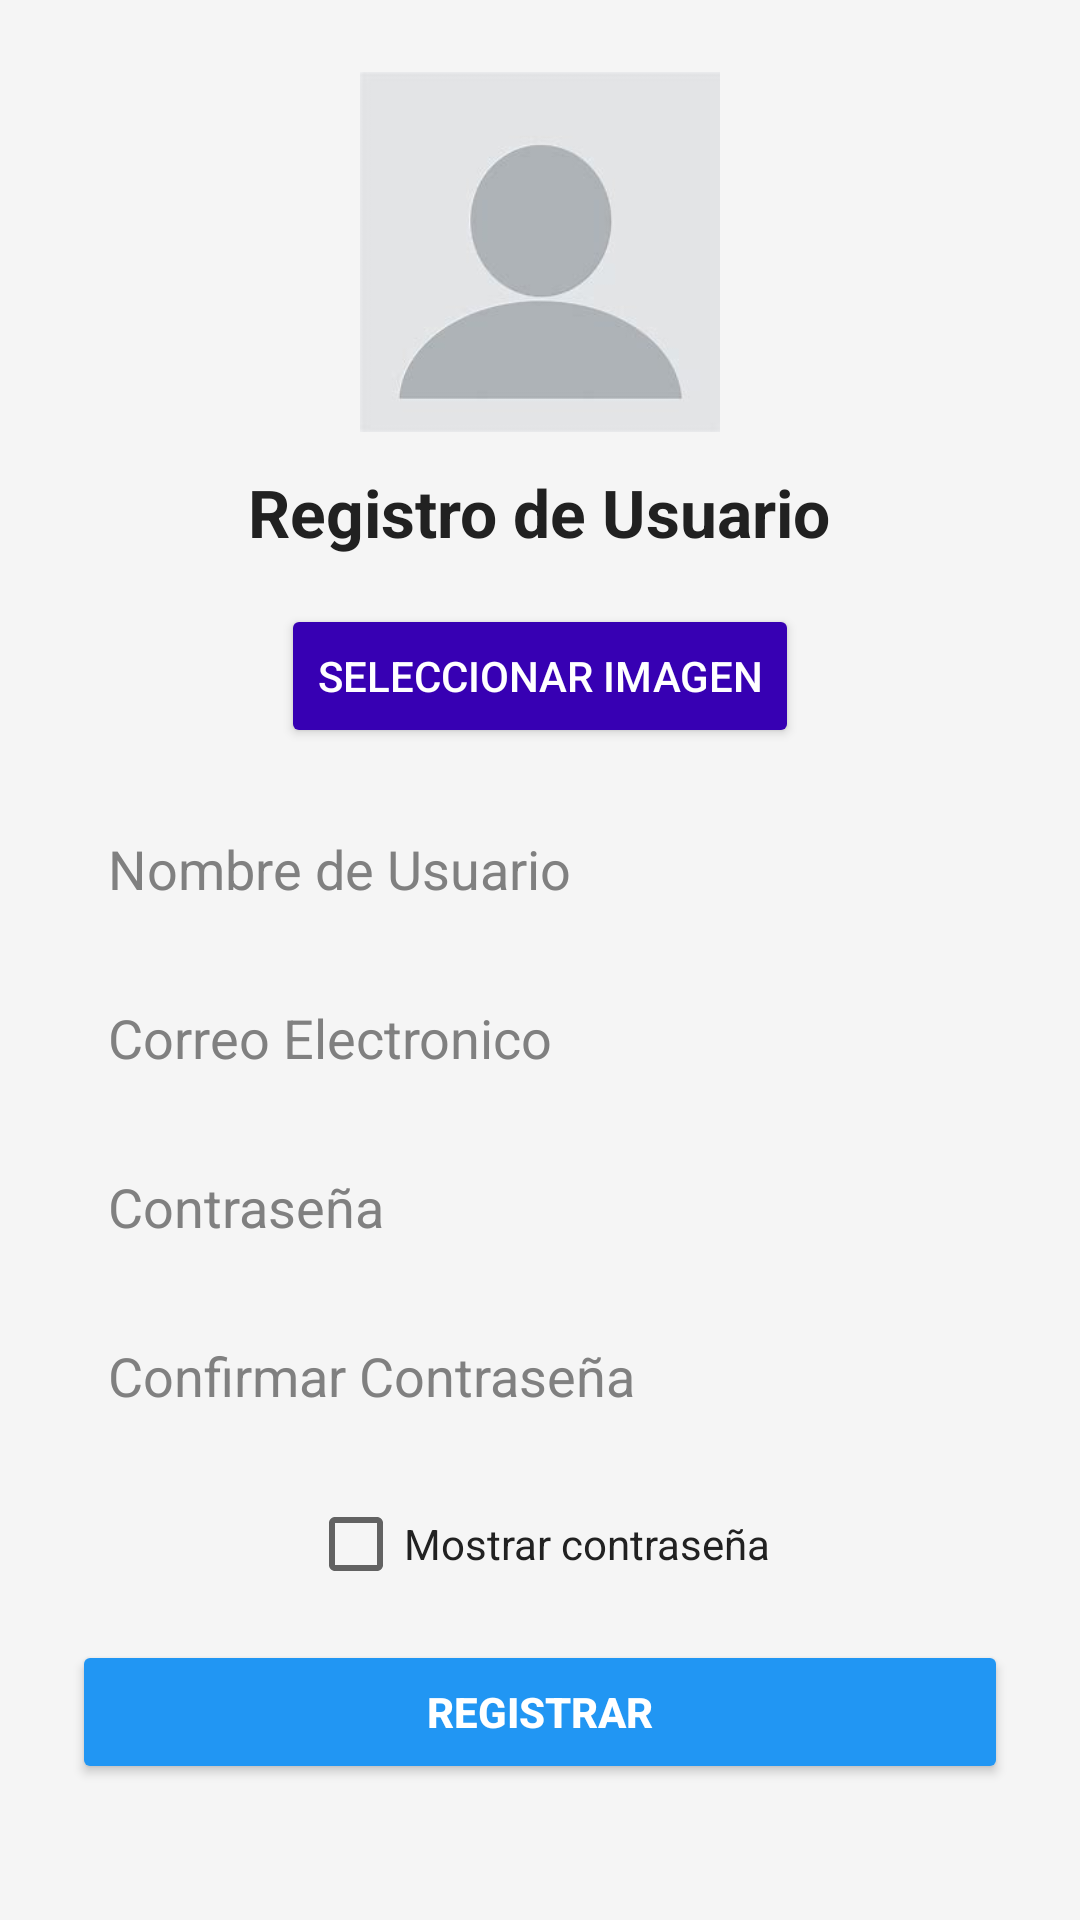

Named icons in this screenshot (1080x1920) and their bounding boxes, (x1=x1, y1=y1, x2=x2, y2=y2):
Seleccionar imagen de perfil: (x1=399, y1=145, x2=684, y2=399)
